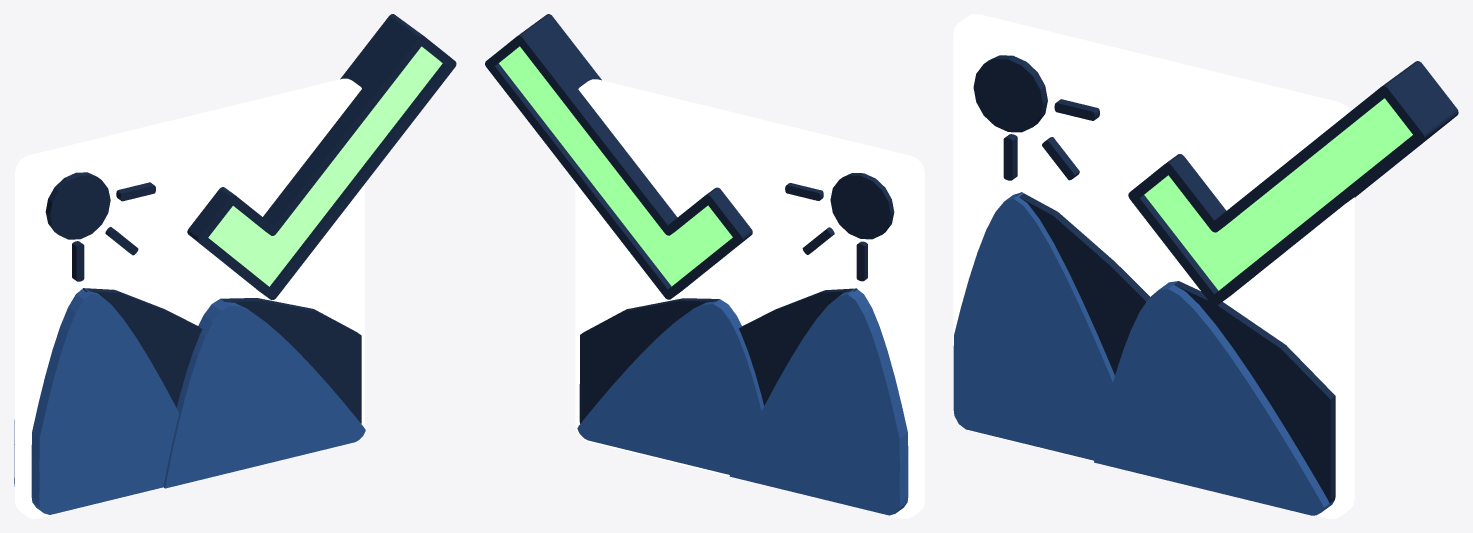
The model's file is l-icons-image-check.glb.
The picture shows the model from 3 angles, left to right: view 1: azimuth 30°, elevation 25°; view 2: azimuth 150°, elevation 25°; view 3: azimuth 330°, elevation 25°; orthographic projection. The views are drawn at different scales.
Visible parts, largest first — view 1: Icon_Image, Checkmark; view 2: Icon_Image, Checkmark; view 3: Icon_Image, Checkmark.
Boxes of the visible parts, box(x1,y1,x2,y2) form: Icon_Image: box(14, 78, 365, 518); Checkmark: box(187, 14, 456, 299); Icon_Image: box(575, 79, 924, 518); Checkmark: box(485, 14, 752, 299); Icon_Image: box(953, 14, 1354, 518); Checkmark: box(1128, 61, 1458, 305).
Bounding box in the file's own units: 0.7314 × 0.6625 × 0.0897.
